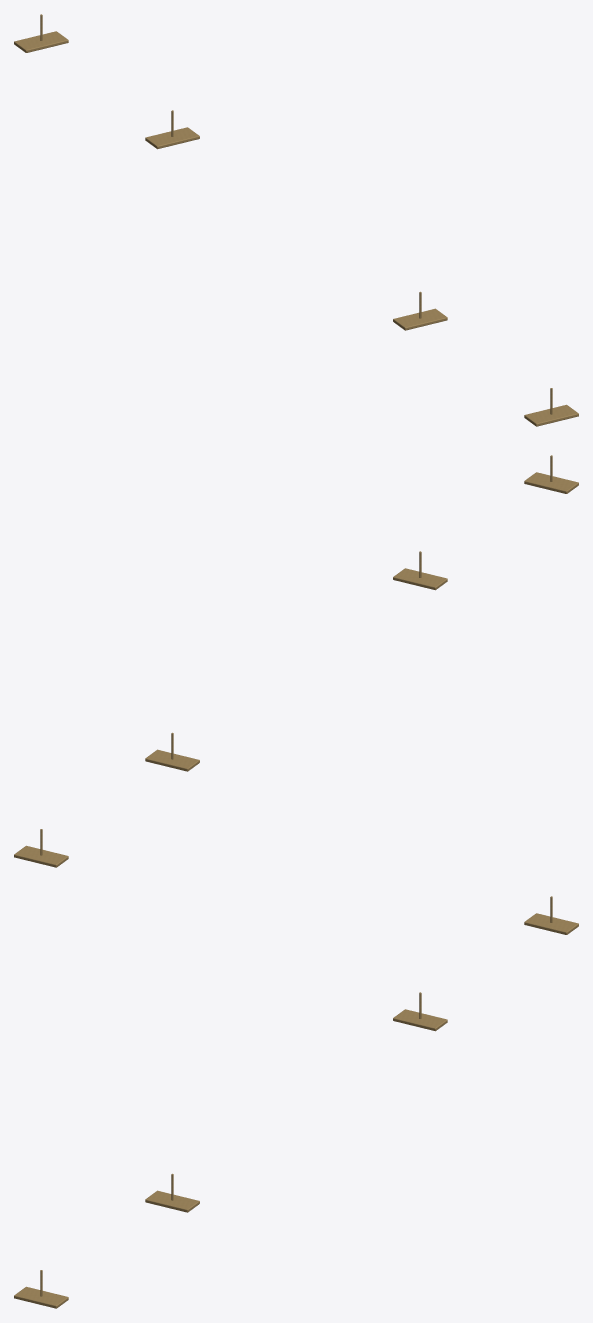
File: D09_directory_07_fixture_clearance_r001.glb
The picture shows the model from 3 angles, top to bottom: view 1: azimuth 30°, elevation 25°; view 2: azimuth 150°, elevation 25°; view 3: azimuth 330°, elevation 25°; orthographic projection.
Parts seen in each view (by area): view 1: Room_1_39_housing, Room_2_39_housing, Room_0_39_housing, Room_3_39_housing; view 2: Room_2_39_housing, Room_1_39_housing, Room_3_39_housing, Room_0_39_housing; view 3: Room_1_39_housing, Room_2_39_housing, Room_0_39_housing, Room_3_39_housing.
Boxes of the visible parts, box(x1,y1,x2,y2) form: Room_1_39_housing: box(145, 127, 199, 149); Room_2_39_housing: box(393, 308, 447, 330); Room_0_39_housing: box(14, 31, 68, 52); Room_3_39_housing: box(524, 404, 578, 426); Room_2_39_housing: box(393, 568, 447, 590); Room_1_39_housing: box(145, 749, 199, 771); Room_3_39_housing: box(524, 472, 578, 493); Room_0_39_housing: box(14, 845, 68, 867); Room_1_39_housing: box(393, 1009, 447, 1031); Room_2_39_housing: box(145, 1190, 199, 1212); Room_0_39_housing: box(524, 913, 578, 934); Room_3_39_housing: box(14, 1286, 68, 1308).
Size of the model in its own units: 1.7 by 1.13 by 35.85.
2 materials, 2 textured.
